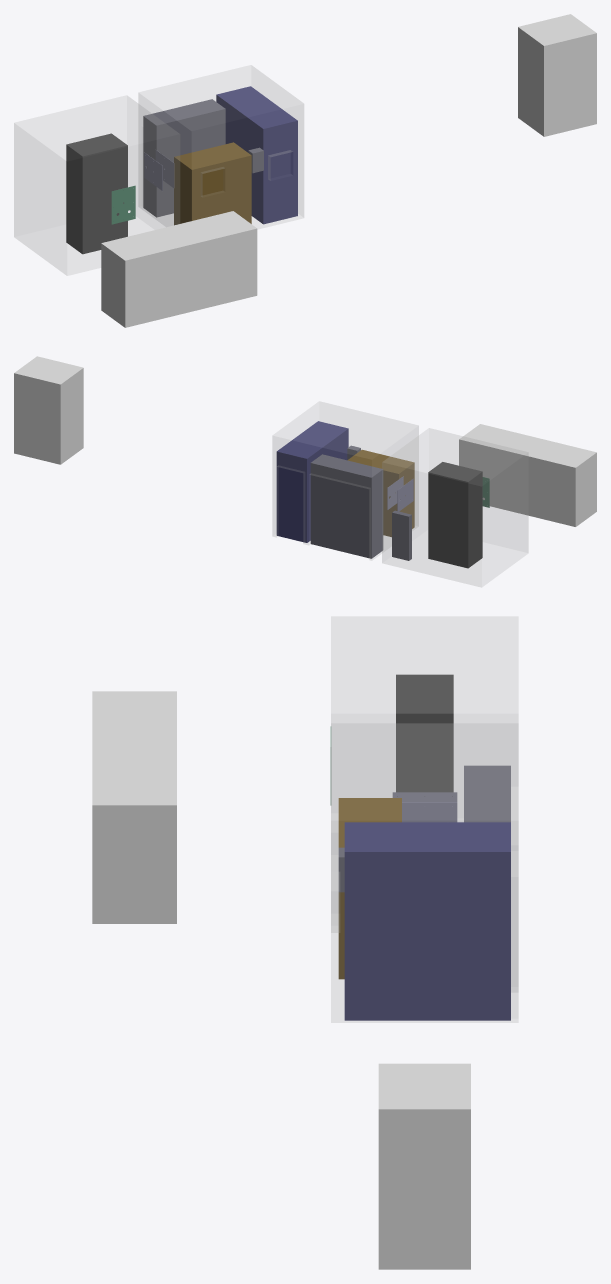
The model's file is assembly.glb.
3 renders of one model, top to bottom at view 1: azimuth 30°, elevation 25°; view 2: azimuth 150°, elevation 25°; view 3: azimuth 270°, elevation 25°, orthographic. The views are drawn at different scales.
Visible parts, largest first — view 1: container_shell (×2), EXT-DC-001, EXT-BESS-002, GRD-SWG-001, CMP-RACK-001, GRD-XFM-001, GRD-LVS-001, ARC-PLT-CD, ARC-PLT-CG; view 2: container_shell (×2), EXT-DC-001, GRD-LVS-001, EXT-BESS-002, CMP-RACK-001, GRD-SWG-001, GRD-XFM-001, CMP-PNL-001, ARC-PLT-CG (×2); view 3: container_shell (×2), GRD-SWG-001, EXT-DC-001, EXT-BESS-002, CMP-RACK-001, GRD-LVS-001, GRD-XFM-001, ARC-PLT-CG.
Part boxes in pixels (x1,y1,x2,y2): container_shell (×2): (14, 65, 303, 275); EXT-DC-001: (101, 211, 257, 327); EXT-BESS-002: (518, 14, 596, 136); GRD-SWG-001: (216, 86, 297, 224); CMP-RACK-001: (66, 133, 127, 254); GRD-XFM-001: (174, 142, 251, 225); GRD-LVS-001: (143, 99, 225, 217); ARC-PLT-CD: (111, 185, 135, 224); ARC-PLT-CG: (144, 152, 162, 190); container_shell (×2): (272, 401, 528, 587); EXT-DC-001: (459, 424, 596, 526); GRD-LVS-001: (310, 454, 383, 558); EXT-BESS-002: (14, 356, 83, 464); CMP-RACK-001: (428, 462, 482, 568); GRD-SWG-001: (276, 421, 348, 542); GRD-XFM-001: (347, 449, 414, 536); CMP-PNL-001: (392, 510, 411, 560); ARC-PLT-CG (×2): (387, 476, 413, 511); container_shell (×2): (331, 616, 518, 1022); GRD-SWG-001: (344, 822, 510, 1020); EXT-DC-001: (92, 691, 176, 923); EXT-BESS-002: (378, 1063, 470, 1269); CMP-RACK-001: (396, 674, 453, 796); GRD-LVS-001: (464, 765, 510, 822); GRD-XFM-001: (338, 798, 401, 979); ARC-PLT-CG: (402, 802, 457, 822).
Bounding box in the file's own units: 14636 × 2896 × 5538.
